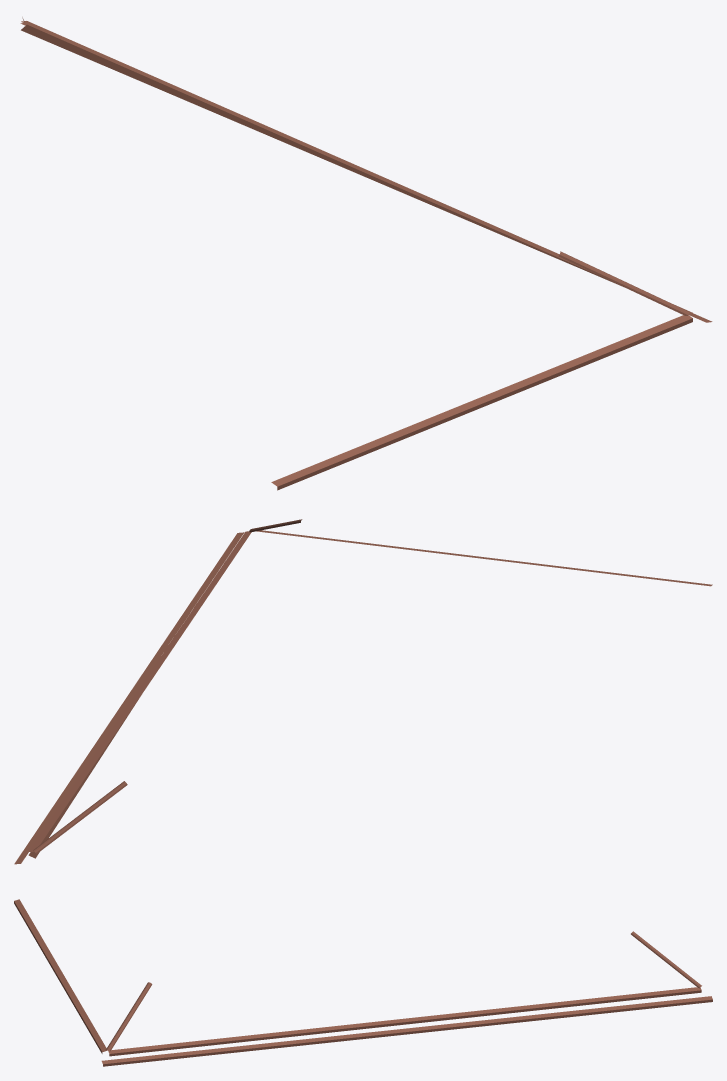
The picture shows the model from 3 angles, top to bottom: view 1: azimuth 30°, elevation 25°; view 2: azimuth 150°, elevation 25°; view 3: azimuth 270°, elevation 25°; orthographic projection. The views are drawn at different scales.
Visible parts, largest first — view 1: detail; view 2: detail; view 3: detail.
Boxes of the visible parts, left/top/right/bottom form: detail: left=20, top=17, right=712, bottom=490; detail: left=14, top=519, right=712, bottom=864; detail: left=14, top=899, right=712, bottom=1066.
Bounding box in the file's own units: 20.93 × 3.1 × 39.18.
